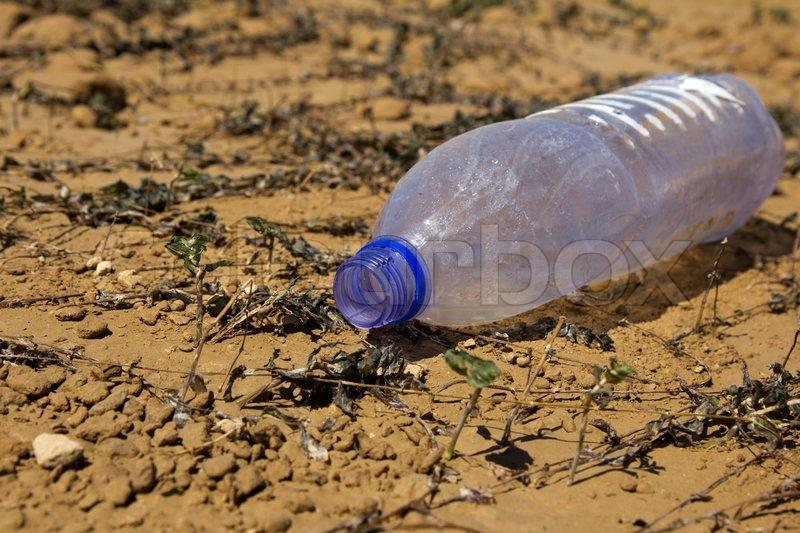bottle: (318, 57, 794, 369)
